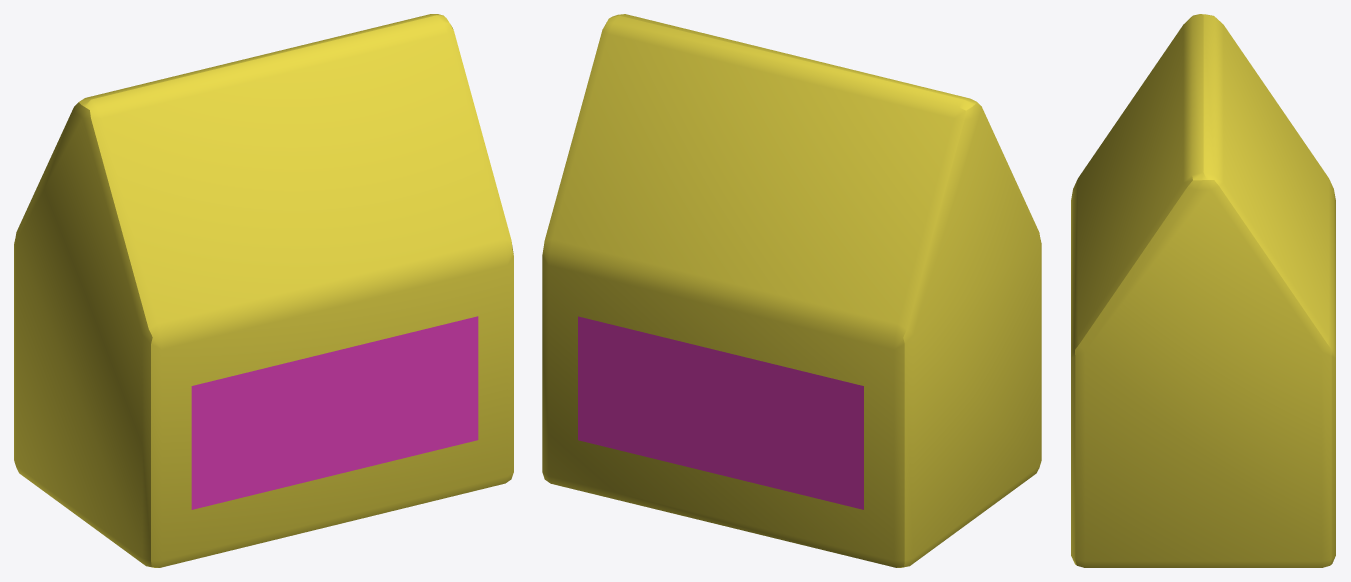
Rendered from simple_packet.glb.
3 views of the same model, side by side, from view 1: azimuth 30°, elevation 25°; view 2: azimuth 150°, elevation 25°; view 3: azimuth 270°, elevation 25° (orthographic). The views are drawn at different scales.
Visible parts, largest first — view 1: Simple Packet, Simple Packet.001; view 2: Simple Packet, Simple Packet.001; view 3: Simple Packet.
Part boxes in pixels (<box>): Simple Packet: <box>14,14,513,567</box>; Simple Packet.001: <box>191,316,478,509</box>; Simple Packet: <box>542,14,1041,567</box>; Simple Packet.001: <box>578,316,863,509</box>; Simple Packet: <box>1071,14,1335,567</box>.
Bounding box in the file's own units: 0.7164 × 0.7806 × 0.4763.
